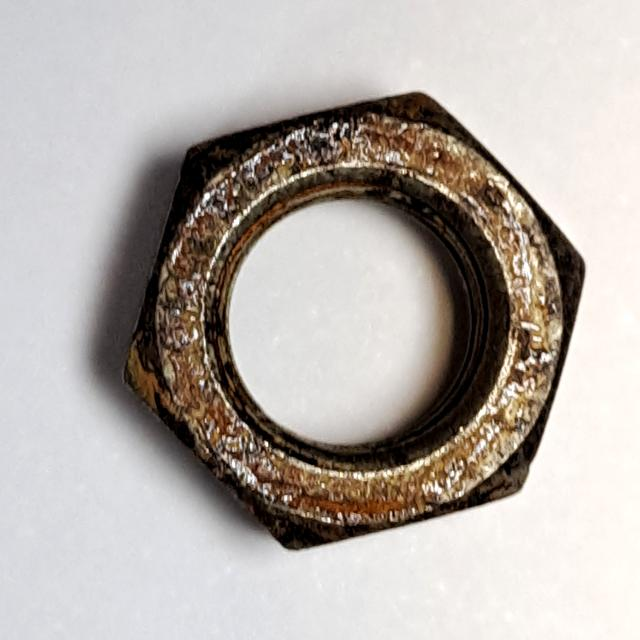Rust: (111, 72, 598, 567)
